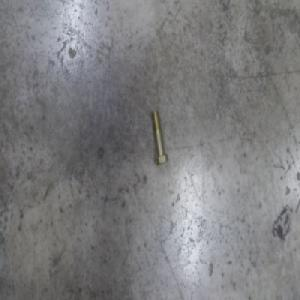Bolt: (150, 111, 167, 168)
